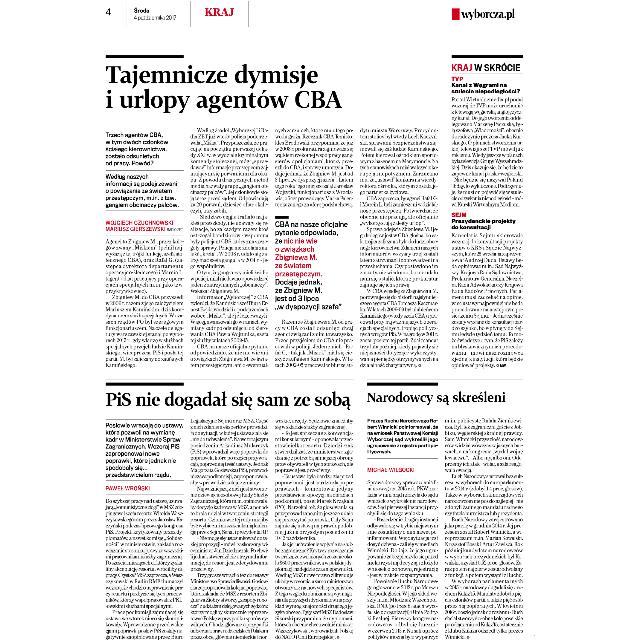article: (105, 51, 441, 370), (107, 380, 356, 640), (365, 380, 535, 640), (448, 51, 530, 373)
